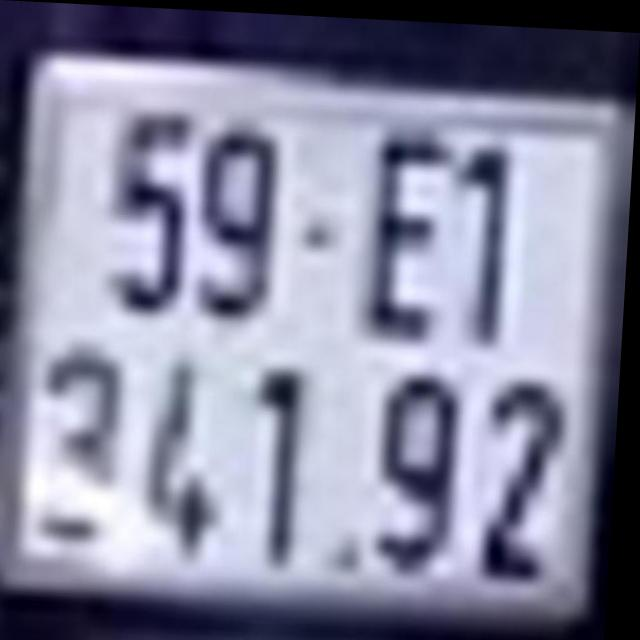1: (251, 350, 317, 573), (453, 138, 514, 346)
2: (481, 375, 580, 581)
3: (41, 341, 131, 543)
4: (145, 347, 234, 555)
5: (110, 106, 194, 315)
9: (375, 362, 466, 571), (199, 125, 286, 315)
E: (373, 130, 458, 339)
